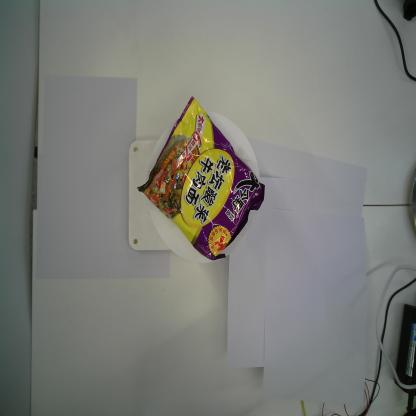Instant Noodles: (137, 94, 265, 260)
